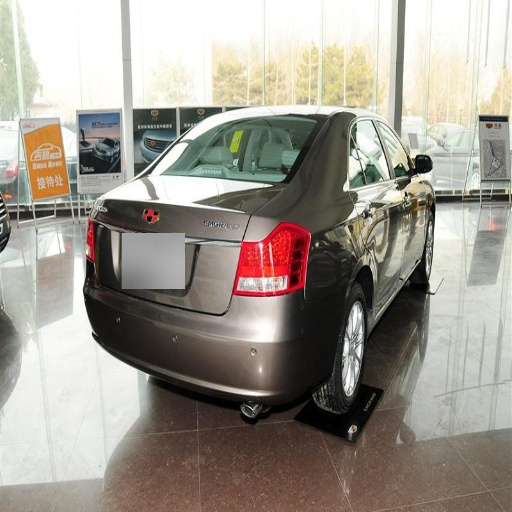back_bumper: (84, 279, 338, 420)
back_right_door: (345, 116, 396, 306)
tailgate: (94, 174, 286, 314)
